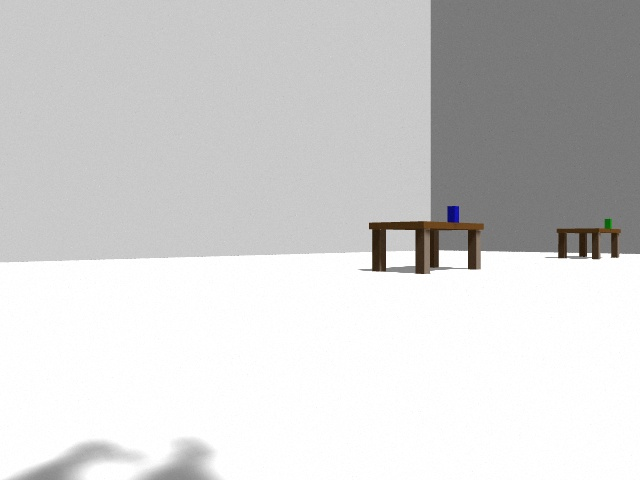blue_cube: (447, 206, 459, 223)
green_cube: (605, 219, 612, 229)
